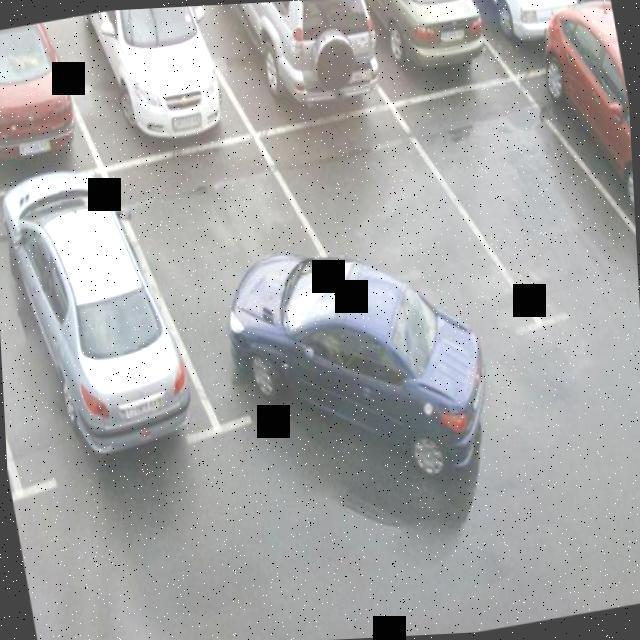car: (114, 127, 355, 467), (0, 138, 196, 515), (302, 87, 520, 372), (528, 28, 640, 306), (49, 4, 242, 165), (182, 0, 377, 140), (0, 16, 100, 207), (328, 0, 497, 111), (454, 0, 595, 82), (544, 0, 618, 56)
free: (416, 48, 640, 362)
